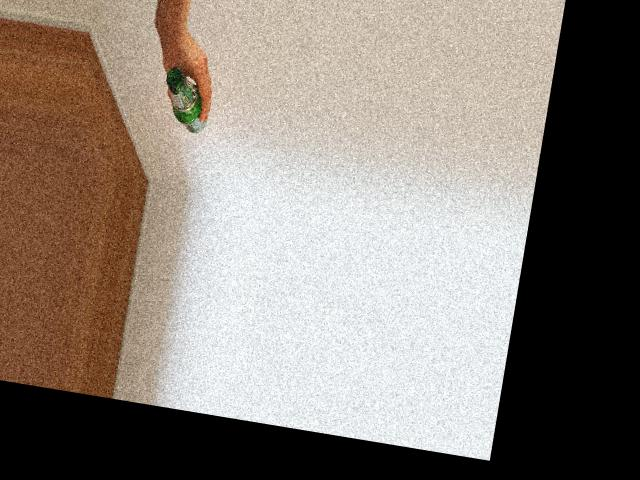beer: (156, 64, 214, 134)
